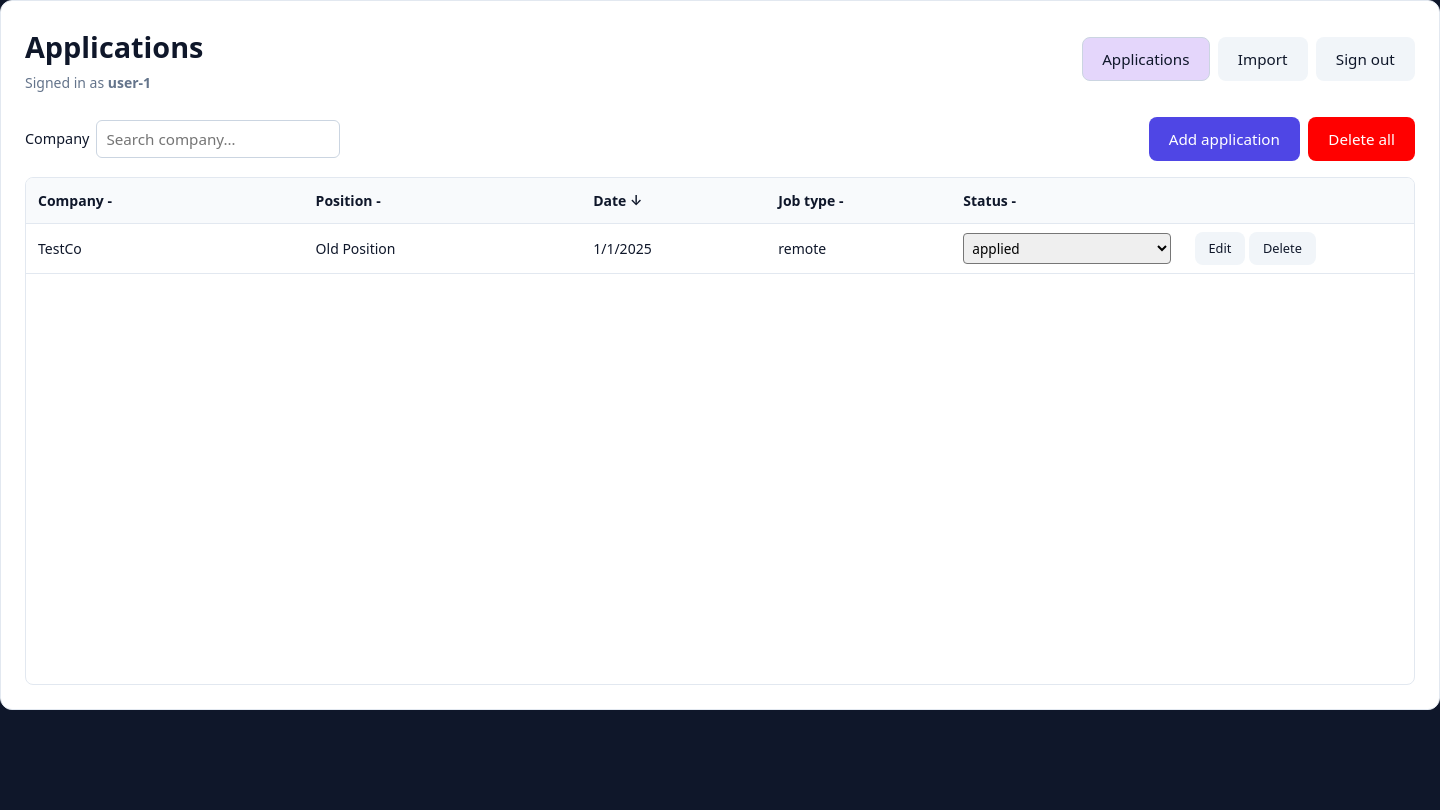
Test: ApplicationsPage › updates an existing application through the form
Click the button "Edit" at (1220, 249), box left=1195, top=232, right=1245, bottom=265
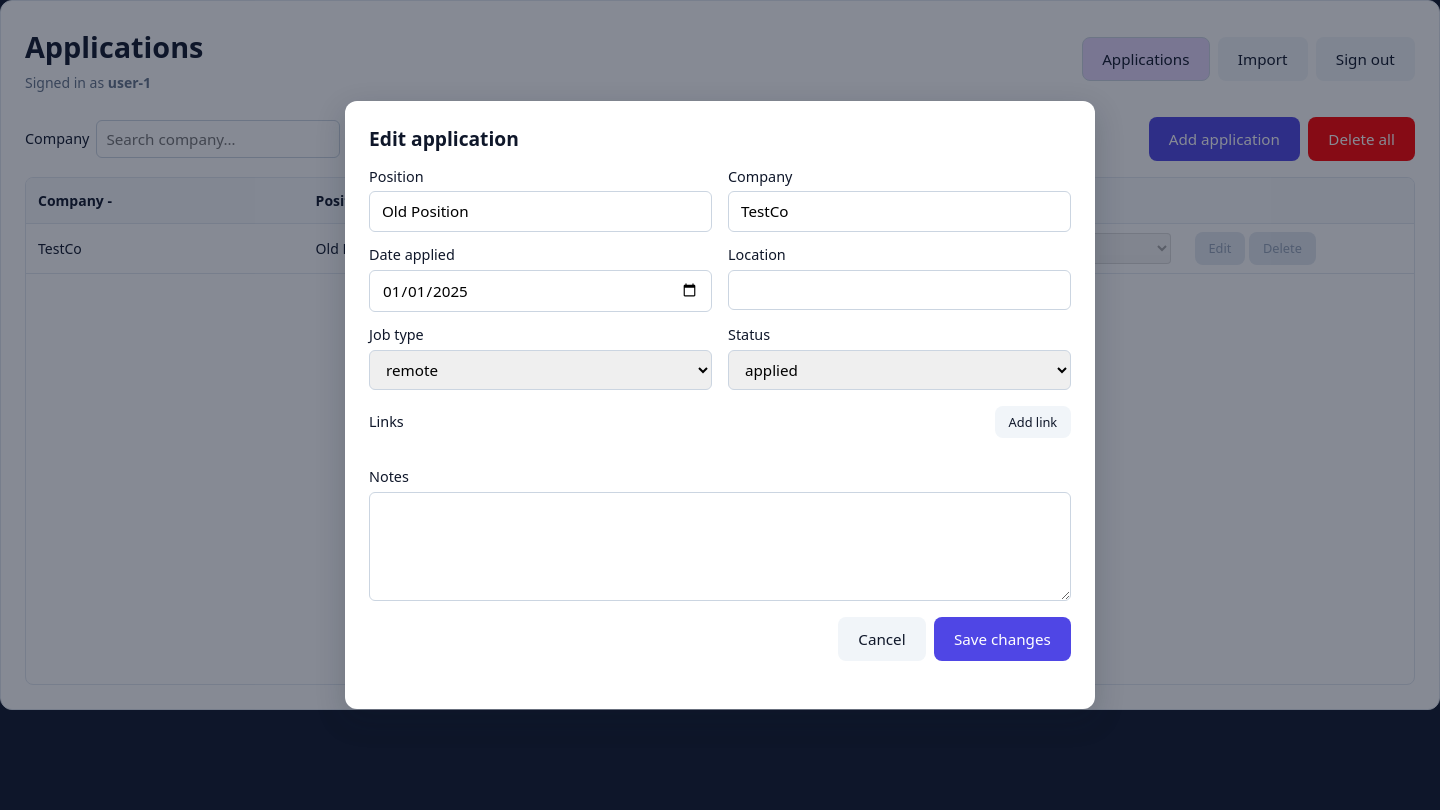
Replace the text in the field labelled "Position" with "New Position" at (540, 212), box left=369, top=191, right=712, bottom=232
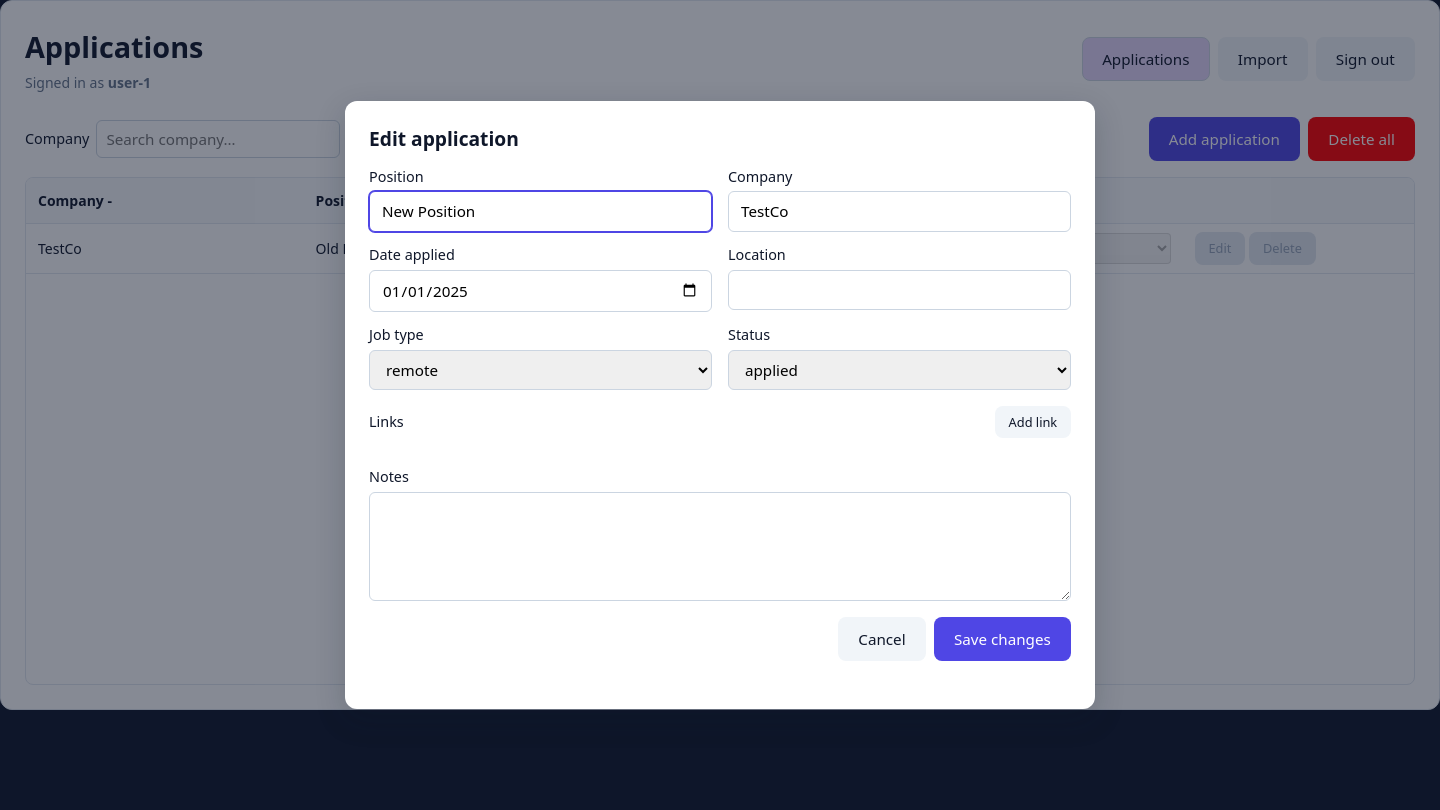
Click the button "Save changes" at (1002, 639), box left=934, top=617, right=1071, bottom=661
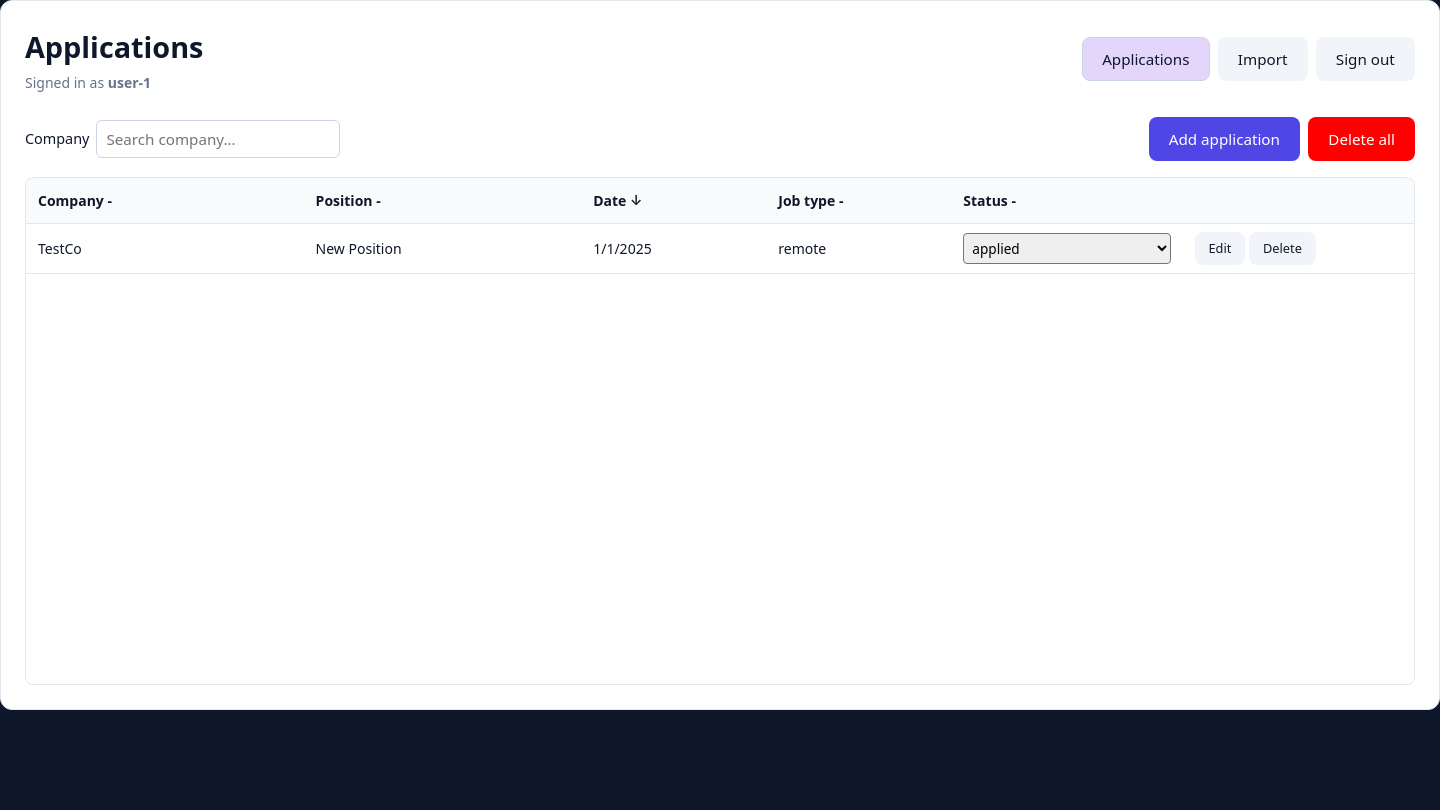
expect the text "New Position" is shown: met, box left=316, top=239, right=402, bottom=258
